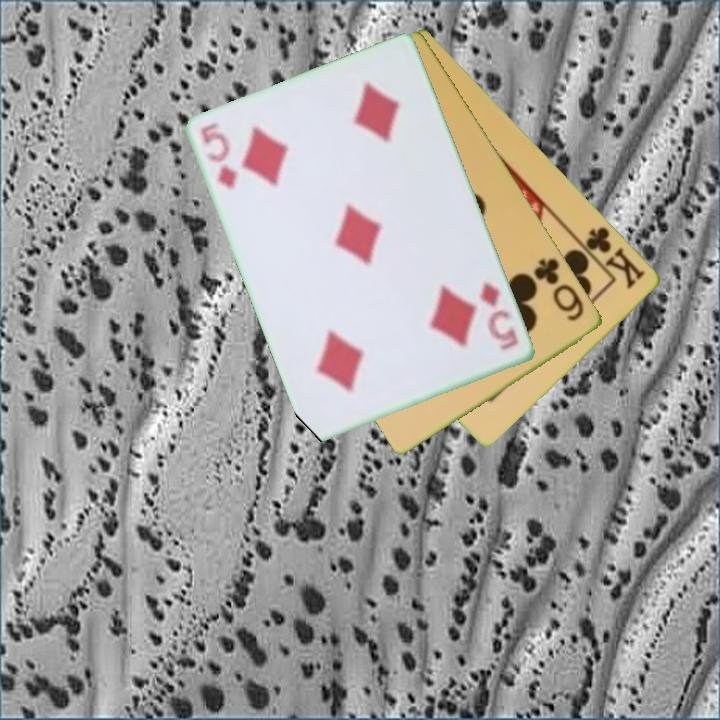5d: (477, 278, 522, 354), (198, 119, 242, 193)
6c: (530, 254, 588, 324)
Kc: (574, 223, 649, 292)
